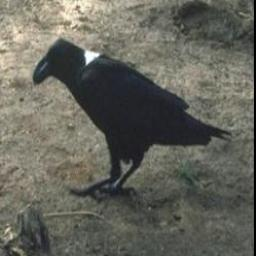Crow: (33, 35, 235, 201)
